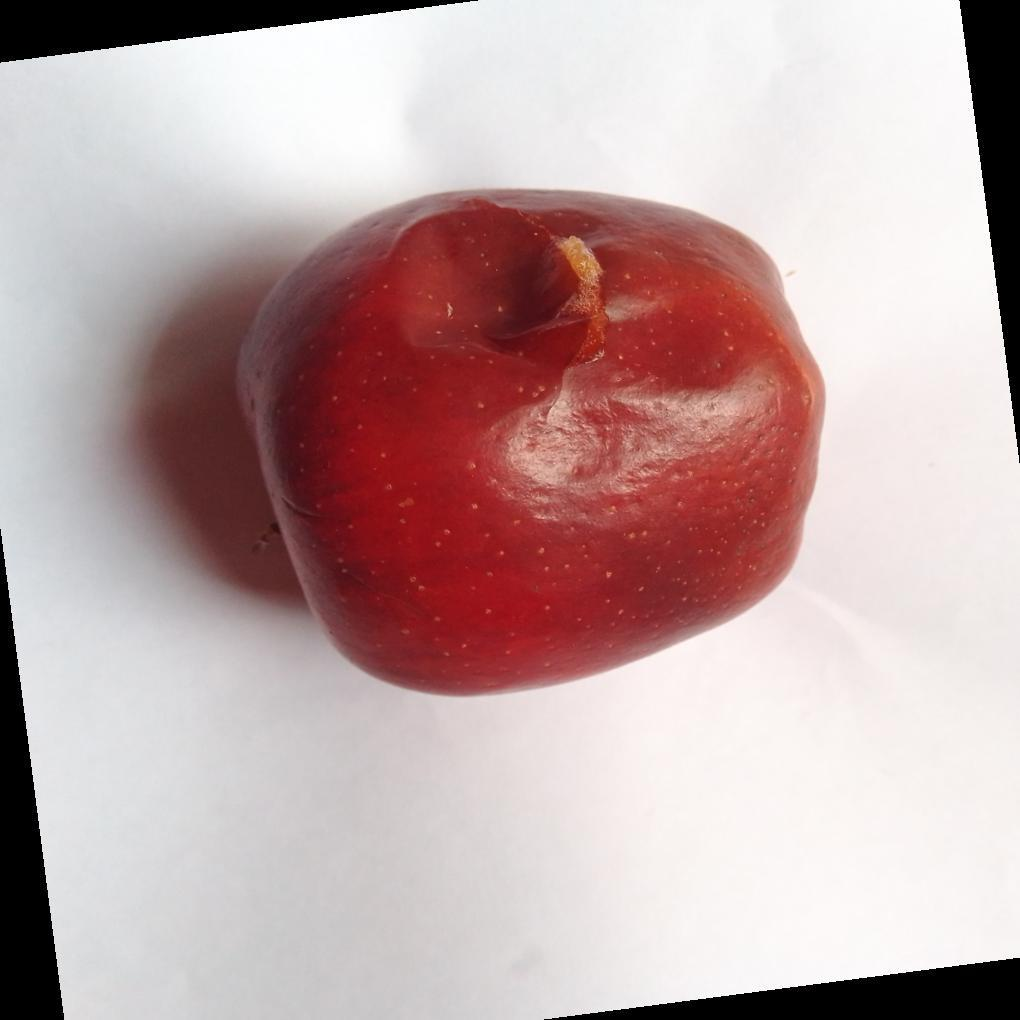FreshOrange: (234, 189, 827, 702)
